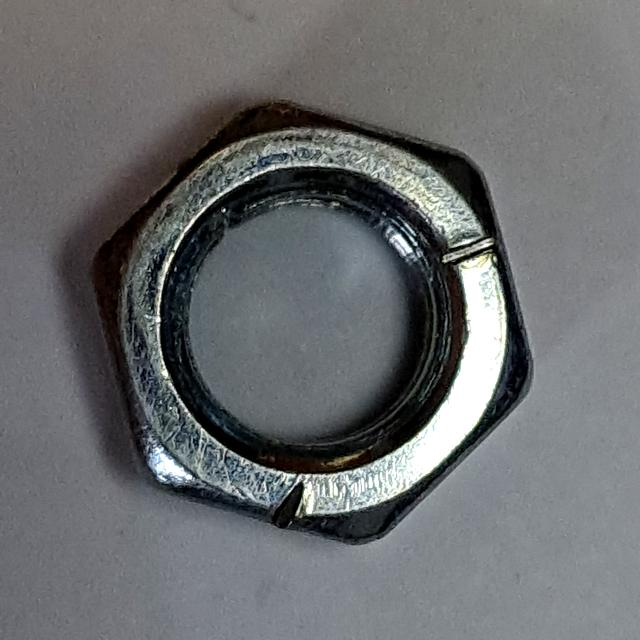Scratches: (76, 89, 547, 559)
